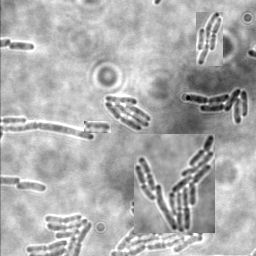Dividing: (1, 123, 95, 142), (8, 41, 35, 52)
Microcolony: (134, 134, 215, 233), (109, 200, 205, 255), (25, 212, 94, 255), (184, 89, 248, 126), (103, 96, 150, 132), (196, 12, 223, 66), (16, 182, 48, 193)
Rod: (84, 121, 111, 133)
